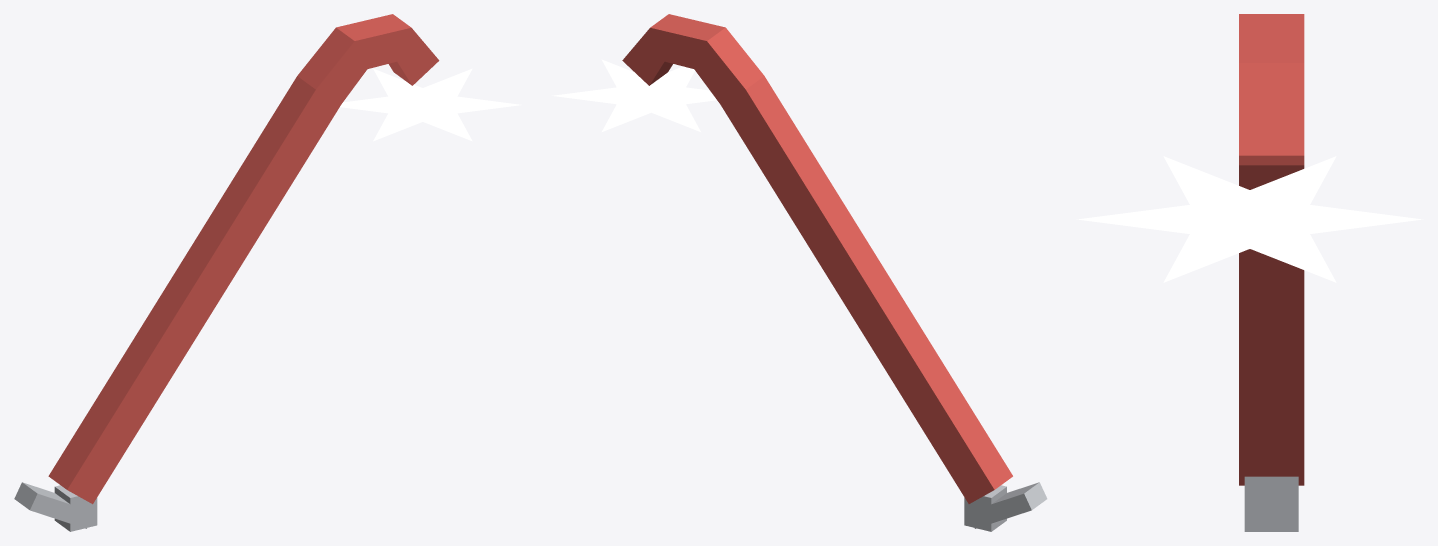
File: item_crowbar.glb
3 renders of one model, left to right at view 1: azimuth 30°, elevation 25°; view 2: azimuth 150°, elevation 25°; view 3: azimuth 270°, elevation 25°, orthographic. The views are drawn at different scales.
Parts seen in each view (by area): view 1: item_crowbar; view 2: item_crowbar; view 3: item_crowbar.
Boxes of the visible parts, x1,y1,x2,y2 form: item_crowbar: (14, 14, 521, 531); item_crowbar: (552, 14, 1047, 531); item_crowbar: (1076, 14, 1423, 531).
Size of the model in its own units: 0.8684 by 0.7495 by 0.32.
